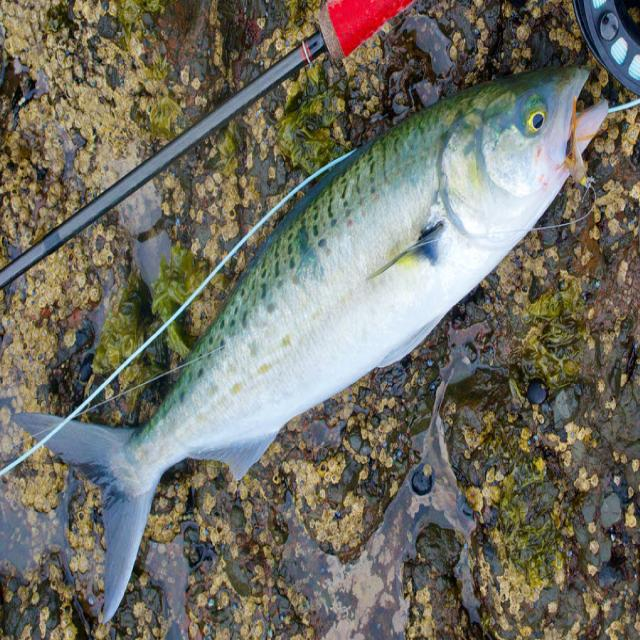Australian Salmon: (8, 57, 617, 632)
